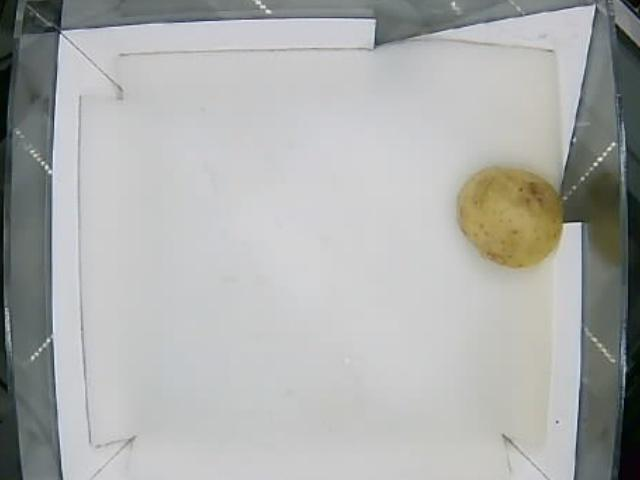Potato: (455, 168, 563, 266)
